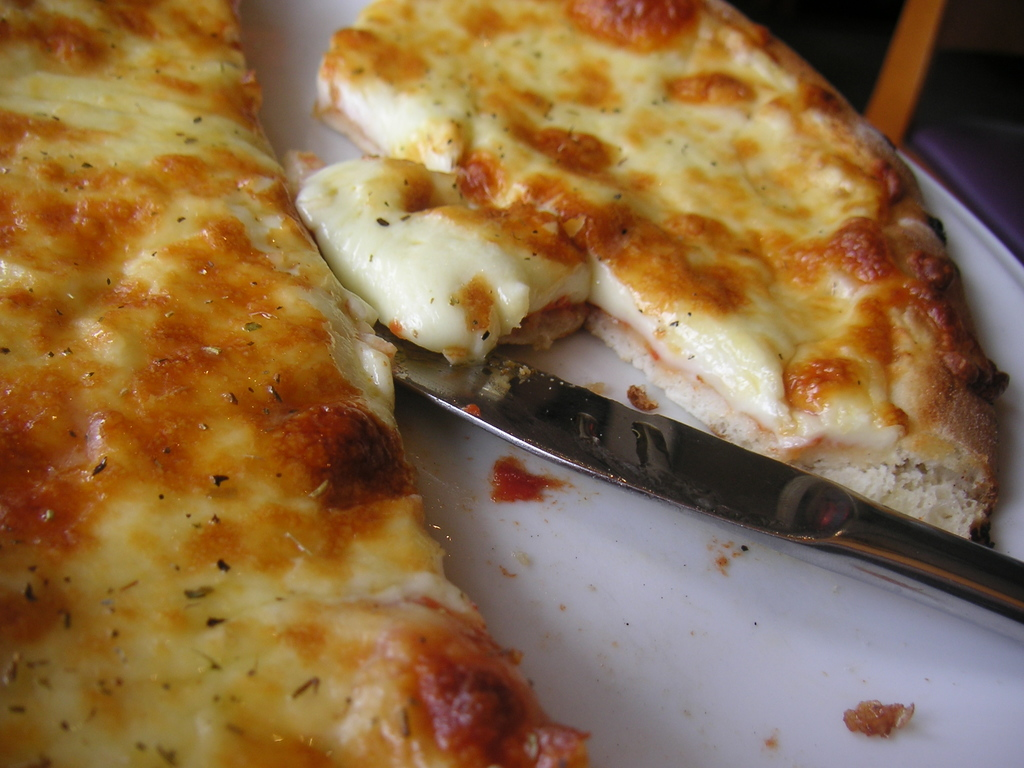Pizza: (7, 0, 586, 766), (337, 0, 973, 569)
